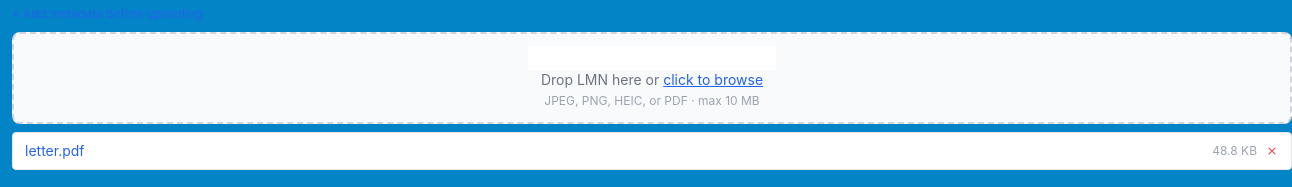
it: LmnUpload › delete › removes LMN from list on delete
Expected: the link "letter.pdf" is shown, [25,142,84,159]
Click the button named "Delete letter.pdf" at (1272, 151), box [1265,144,1279,158]
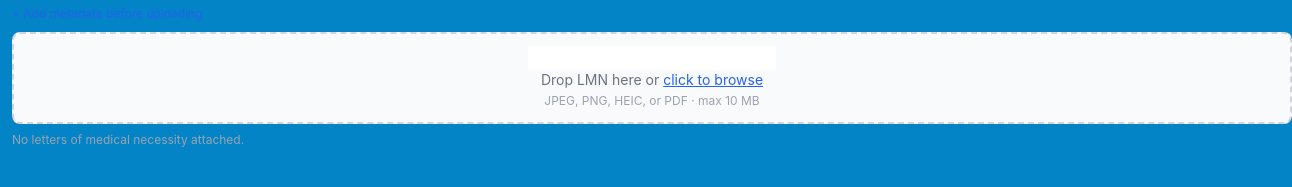
Result: the link "letter.pdf" is gone
